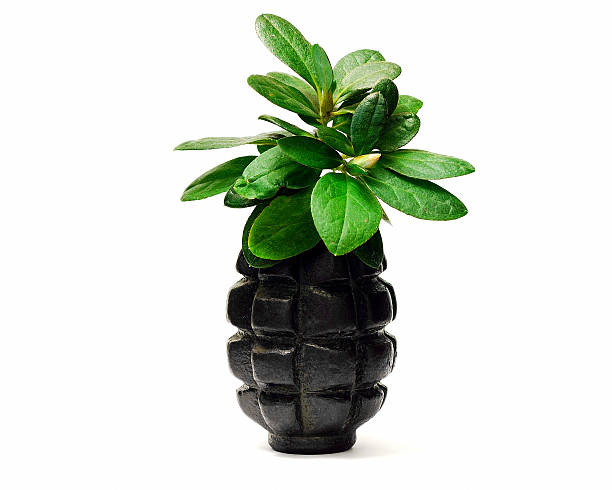e1: (220, 183, 404, 455)
